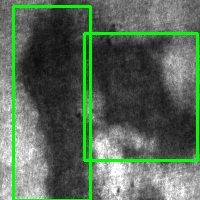patches: (13, 6, 90, 200), (84, 33, 197, 160)
